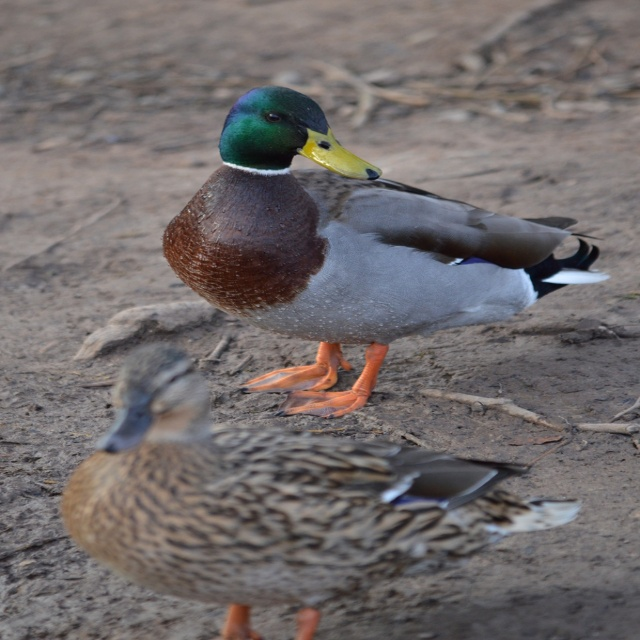Duck: (68, 297, 590, 640), (164, 96, 571, 419)
